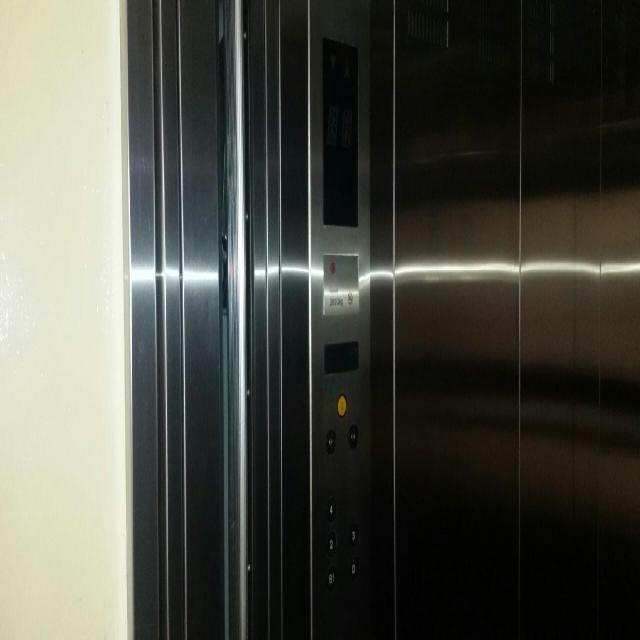0: (346, 553, 360, 581)
2: (325, 528, 337, 556)
3: (347, 522, 359, 546)
4: (324, 498, 338, 522)
B1: (326, 564, 338, 590)
alarm: (336, 394, 347, 417)
close: (346, 422, 359, 450)
led: (320, 29, 360, 231), (322, 337, 360, 375)
open: (323, 427, 337, 454)
